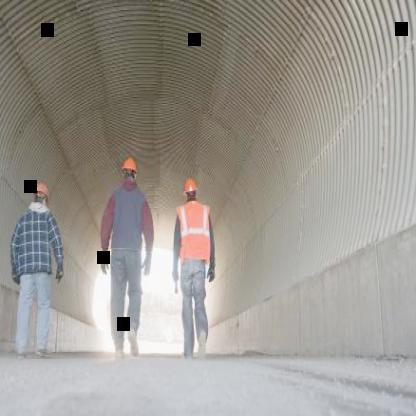helmet: (32, 181, 50, 214), (182, 175, 198, 208), (122, 157, 138, 190)
